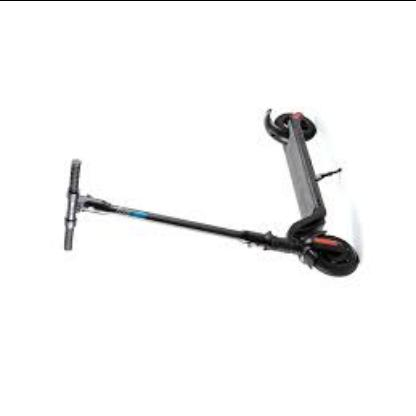bike: (62, 107, 362, 278)
